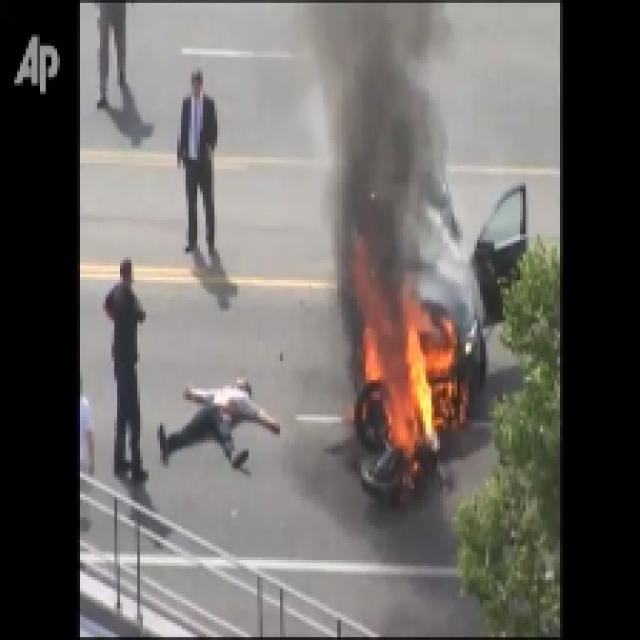Fire: (357, 291, 454, 460)
Smoke: (329, 2, 457, 294)
